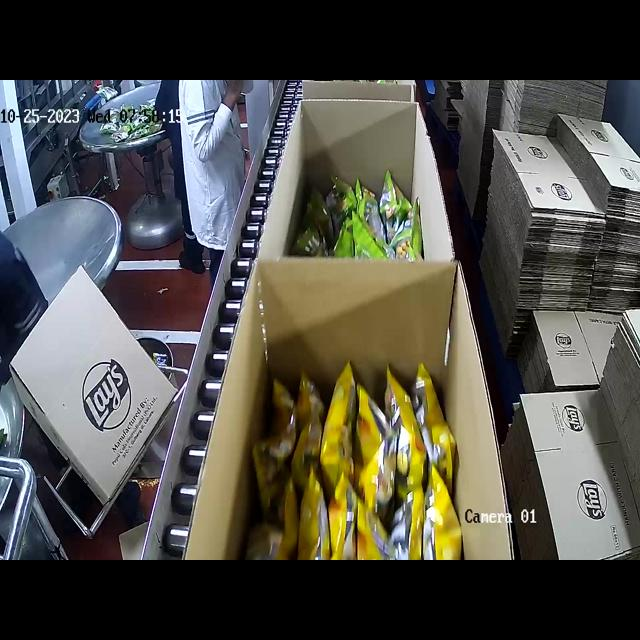salted: (263, 353, 463, 560)
yogurt: (295, 166, 424, 263)
